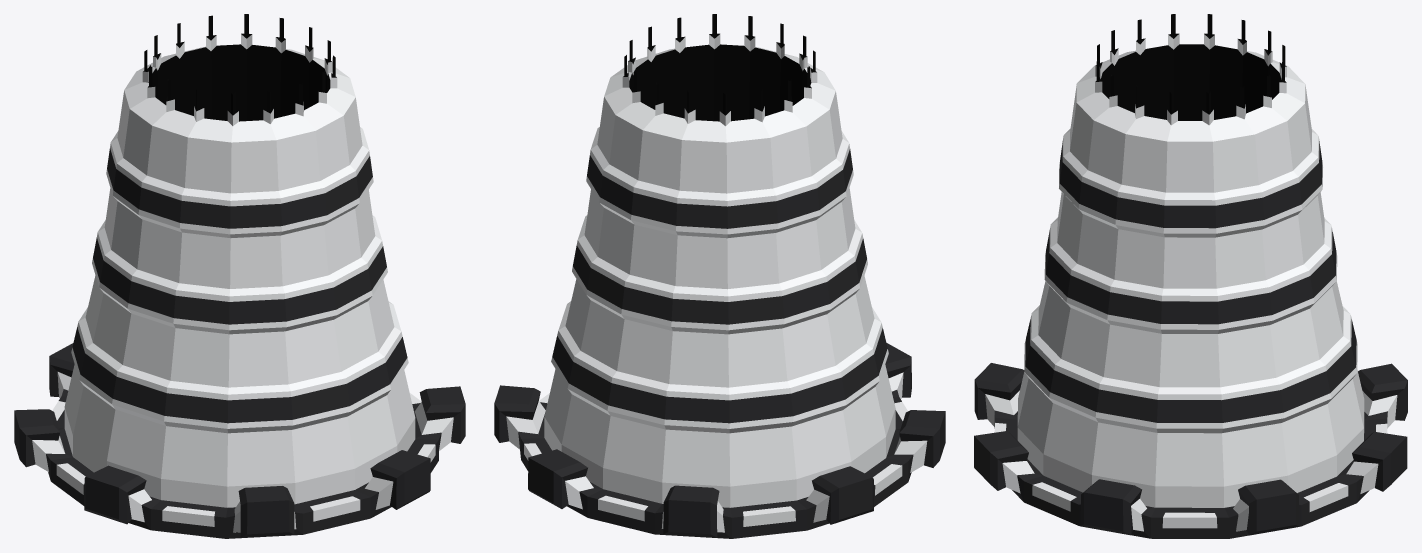
File: wastetower.fbx
The picture shows the model from 3 angles, left to right: view 1: azimuth 30°, elevation 25°; view 2: azimuth 150°, elevation 25°; view 3: azimuth 270°, elevation 25°; orthographic projection.
Parts seen in each view (by area): view 1: AtomicCoolingTower_Body, AtomicCoolingTower_Foundation; view 2: AtomicCoolingTower_Body, AtomicCoolingTower_Foundation; view 3: AtomicCoolingTower_Body, AtomicCoolingTower_Foundation.
Part boxes in pixels (bbox=[...]): AtomicCoolingTower_Body: bbox=[64, 14, 415, 507]; AtomicCoolingTower_Foundation: bbox=[14, 343, 465, 538]; AtomicCoolingTower_Body: bbox=[544, 14, 895, 507]; AtomicCoolingTower_Foundation: bbox=[494, 343, 945, 538]; AtomicCoolingTower_Body: bbox=[1017, 14, 1364, 507]; AtomicCoolingTower_Foundation: bbox=[974, 363, 1407, 538].
Size of the model in its own units: 3687 by 3687 by 3778.
1 material, 1 textured.
